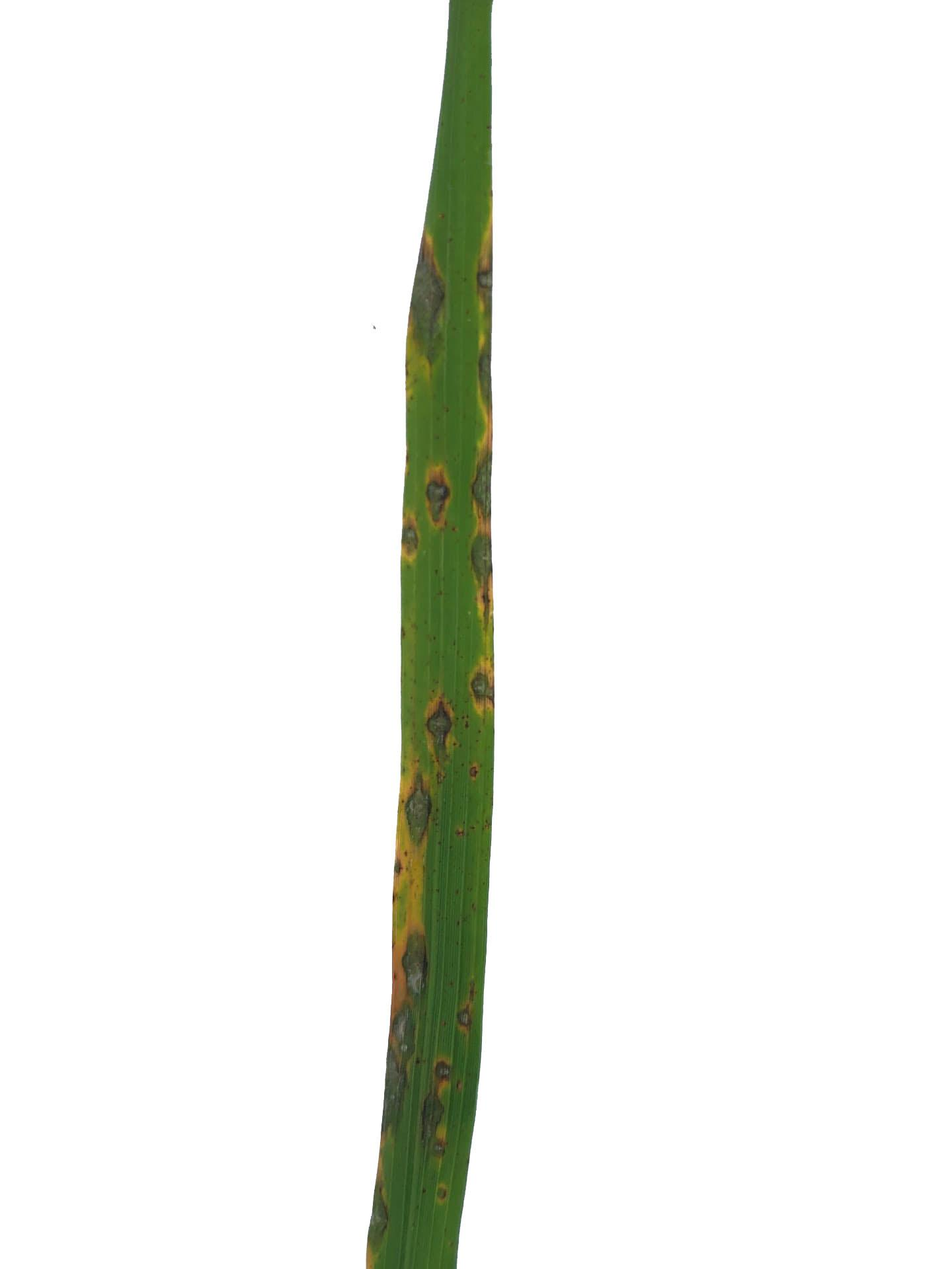Rice blast: (402, 238, 448, 384), (424, 1056, 466, 1159), (472, 239, 493, 432), (385, 1002, 416, 1129), (419, 461, 456, 529), (466, 653, 496, 732), (402, 771, 433, 847), (466, 527, 496, 604), (424, 698, 455, 770), (402, 927, 429, 1003), (368, 1174, 392, 1256), (467, 440, 489, 522), (400, 509, 423, 575), (459, 1008, 475, 1035)
